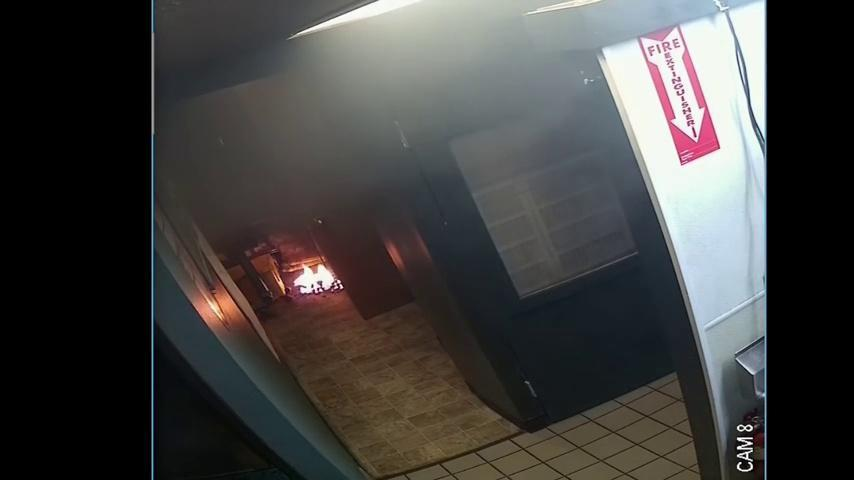fire: (230, 218, 357, 325)
